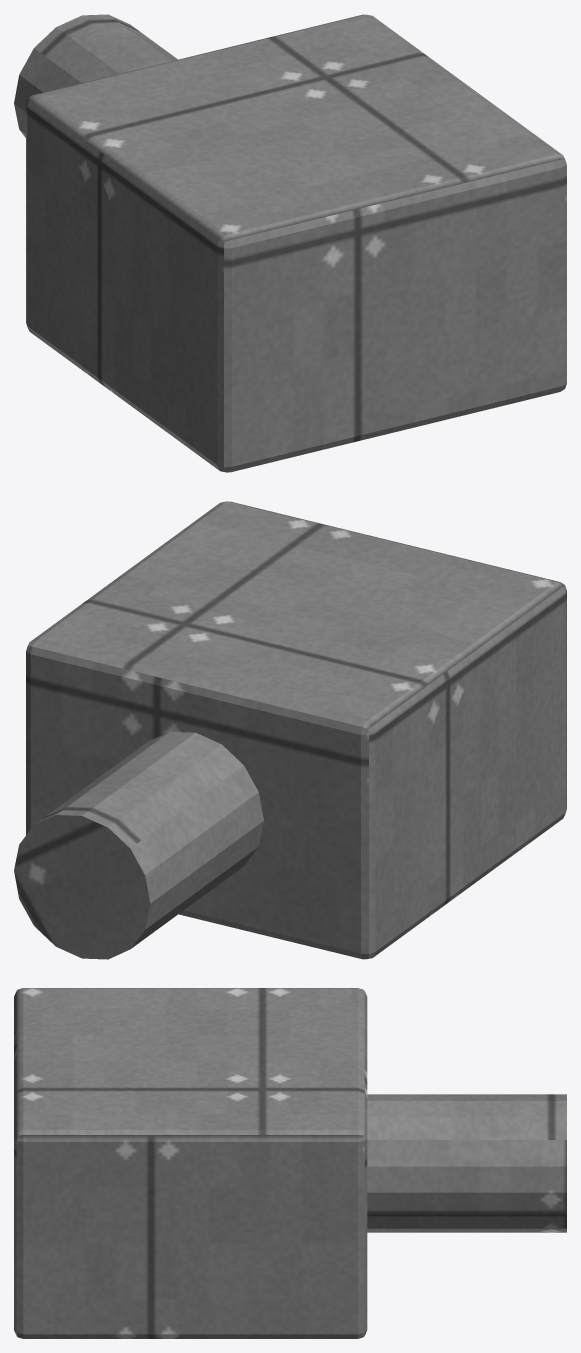
File: attach_0.glb
The picture shows the model from 3 angles, top to bottom: view 1: azimuth 30°, elevation 25°; view 2: azimuth 150°, elevation 25°; view 3: azimuth 270°, elevation 25°; orthographic projection. The views are drawn at different scales.
Visible parts, largest first — view 1: attach_0; view 2: attach_0; view 3: attach_0.
Part boxes in pixels (x1,y1,x2,y2): attach_0: (14, 14, 566, 472); attach_0: (14, 501, 566, 959); attach_0: (14, 988, 566, 1338).
Bounding box in the file's own units: 0.46 × 0.3 × 0.72.
1 material, 1 textured.
